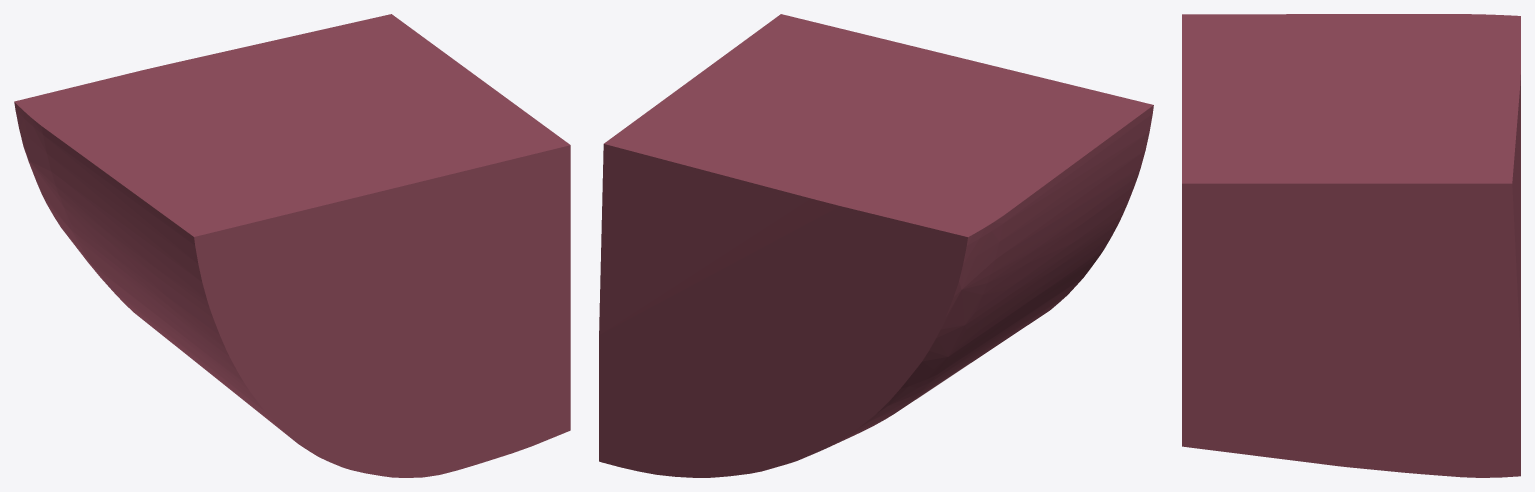
The model's file is piece_13.obj.
3 renders of one model, left to right at view 1: azimuth 30°, elevation 25°; view 2: azimuth 150°, elevation 25°; view 3: azimuth 270°, elevation 25°, orthographic. The views are drawn at different scales.
Bounding box in the file's own units: 0.0348 × 0.0282 × 0.0294.
